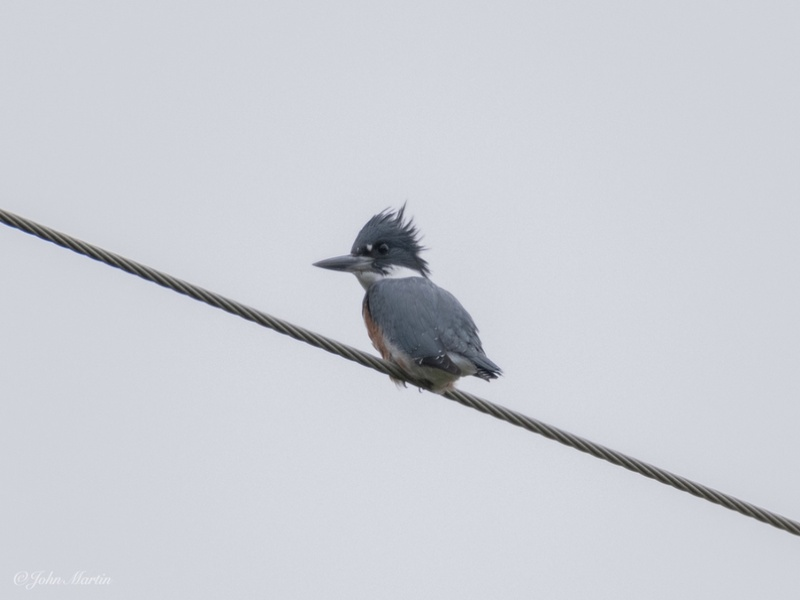kingfisher: (309, 199, 506, 399)
